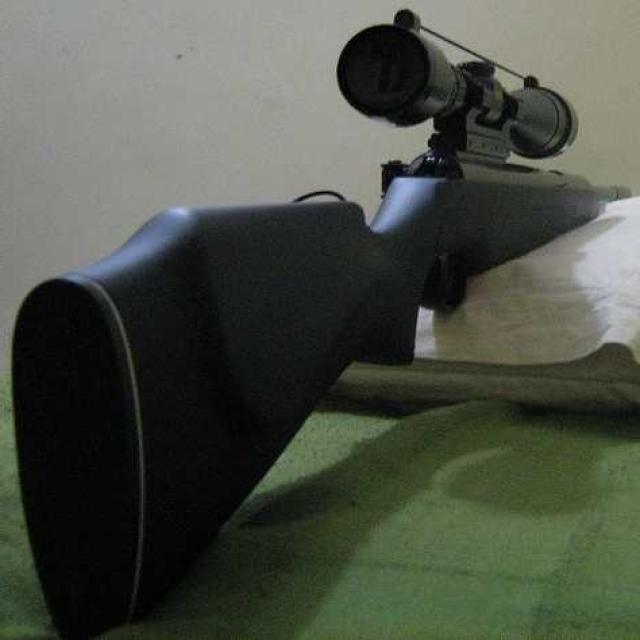heavyweapon: (39, 3, 631, 640)
